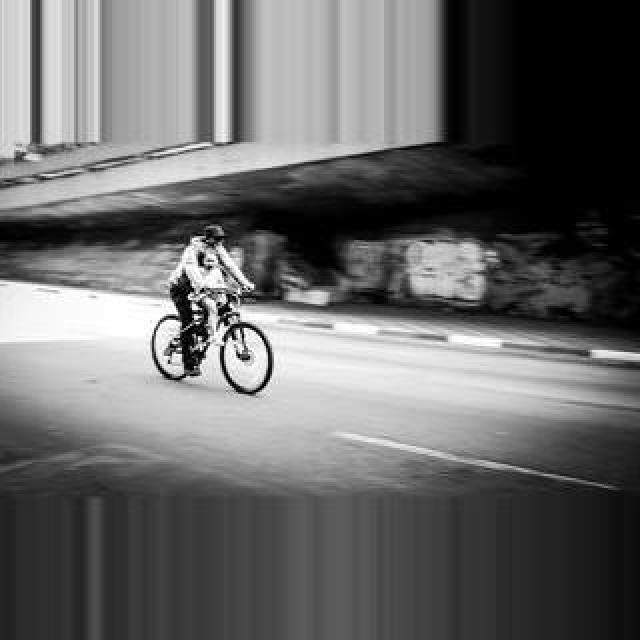MC-Bike: (166, 224, 256, 368)
Person: (149, 292, 273, 396)
